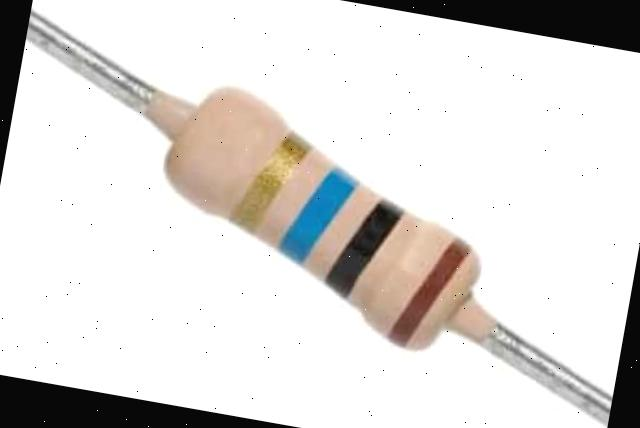black: (323, 197, 408, 304)
blue: (274, 164, 362, 268)
brown: (384, 236, 471, 349)
gold: (229, 131, 317, 238)
resistor: (95, 31, 526, 408)
